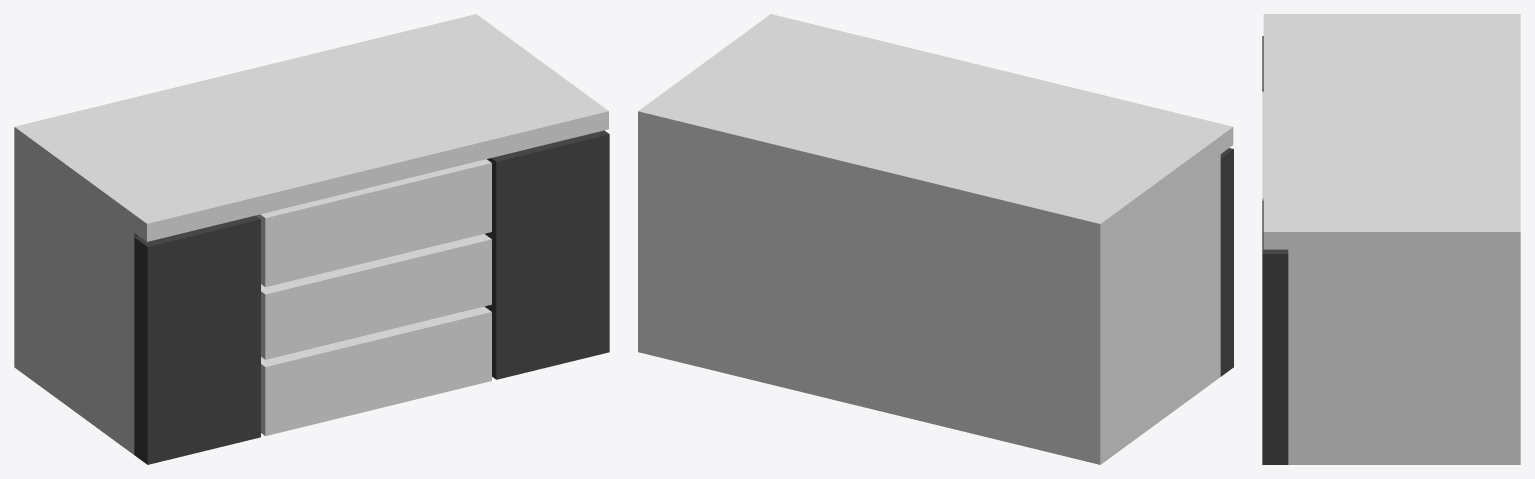
Rendered from X2BoxTVstand.fbx.
3 renders of one model, left to right at view 1: azimuth 30°, elevation 25°; view 2: azimuth 150°, elevation 25°; view 3: azimuth 270°, elevation 25°, orthographic. The views are drawn at different scales.
Parts seen in each view (by area): view 1: y2TVdai; view 2: y2TVdai; view 3: y2TVdai.
Boxes of the visible parts, x1,y1,x2,y2 form: y2TVdai: [14, 14, 609, 464]; y2TVdai: [638, 14, 1233, 464]; y2TVdai: [1262, 14, 1520, 464].
Bounding box in the file's own units: 2 × 0.9954 × 1.
1 material, 1 textured.
